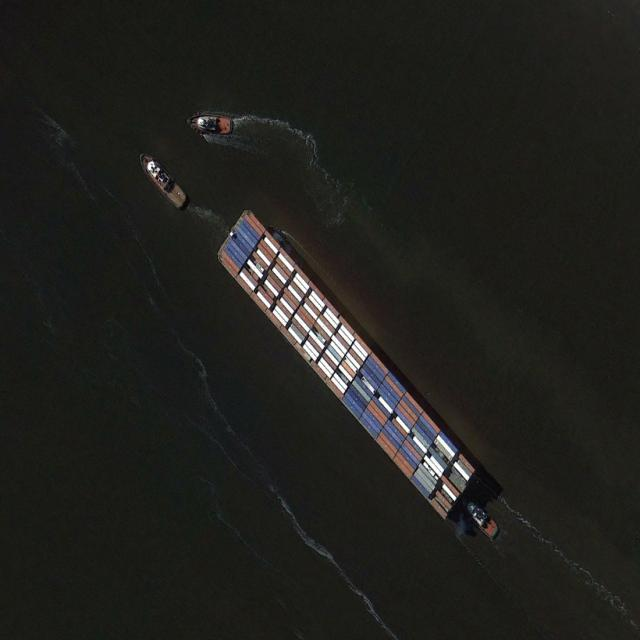Container Ship: (213, 207, 476, 521)
Other Ship: (137, 149, 188, 210), (463, 494, 501, 540), (187, 111, 233, 136)
